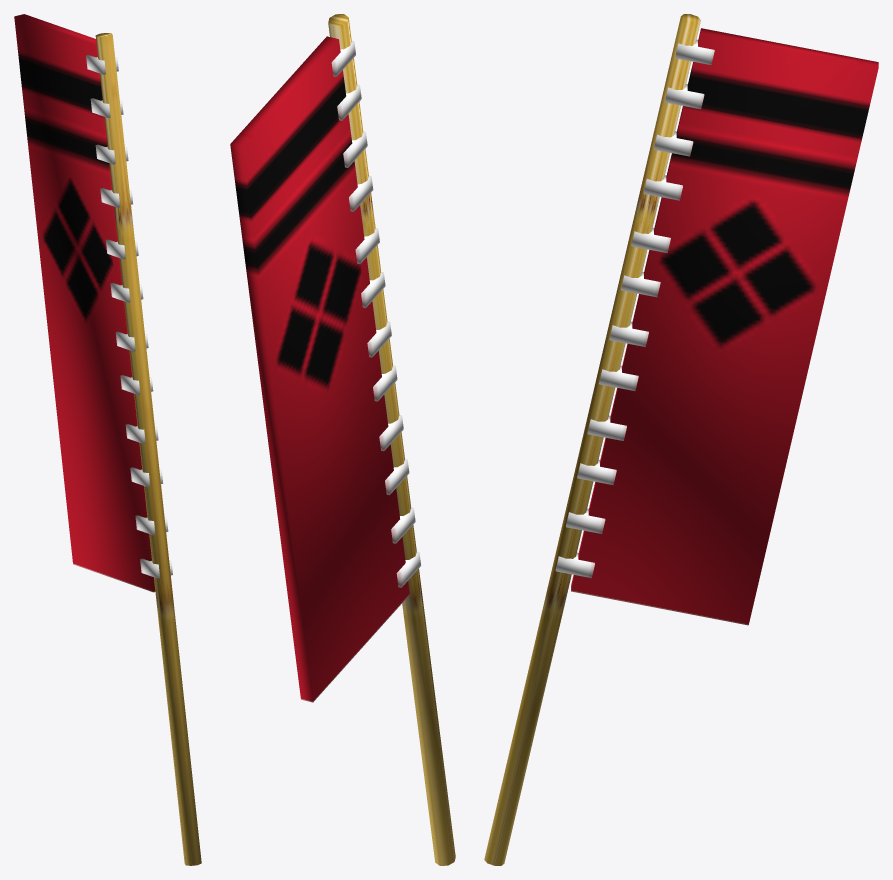
Rendered from WorldItem_Samurai_WarBanner.fbx.
3 renders of one model, left to right at view 1: azimuth 30°, elevation 25°; view 2: azimuth 150°, elevation 25°; view 3: azimuth 270°, elevation 25°, orthographic. The views are drawn at different scales.
Visible parts, largest first — view 1: Flag; view 2: Flag; view 3: Flag.
Boxes of the visible parts, <box> form: Flag: <box>14,14,201,865</box>; Flag: <box>230,14,455,865</box>; Flag: <box>484,14,878,865</box>.
Size of the model in its own units: 0.0216 by 1.05 by 0.4421.
